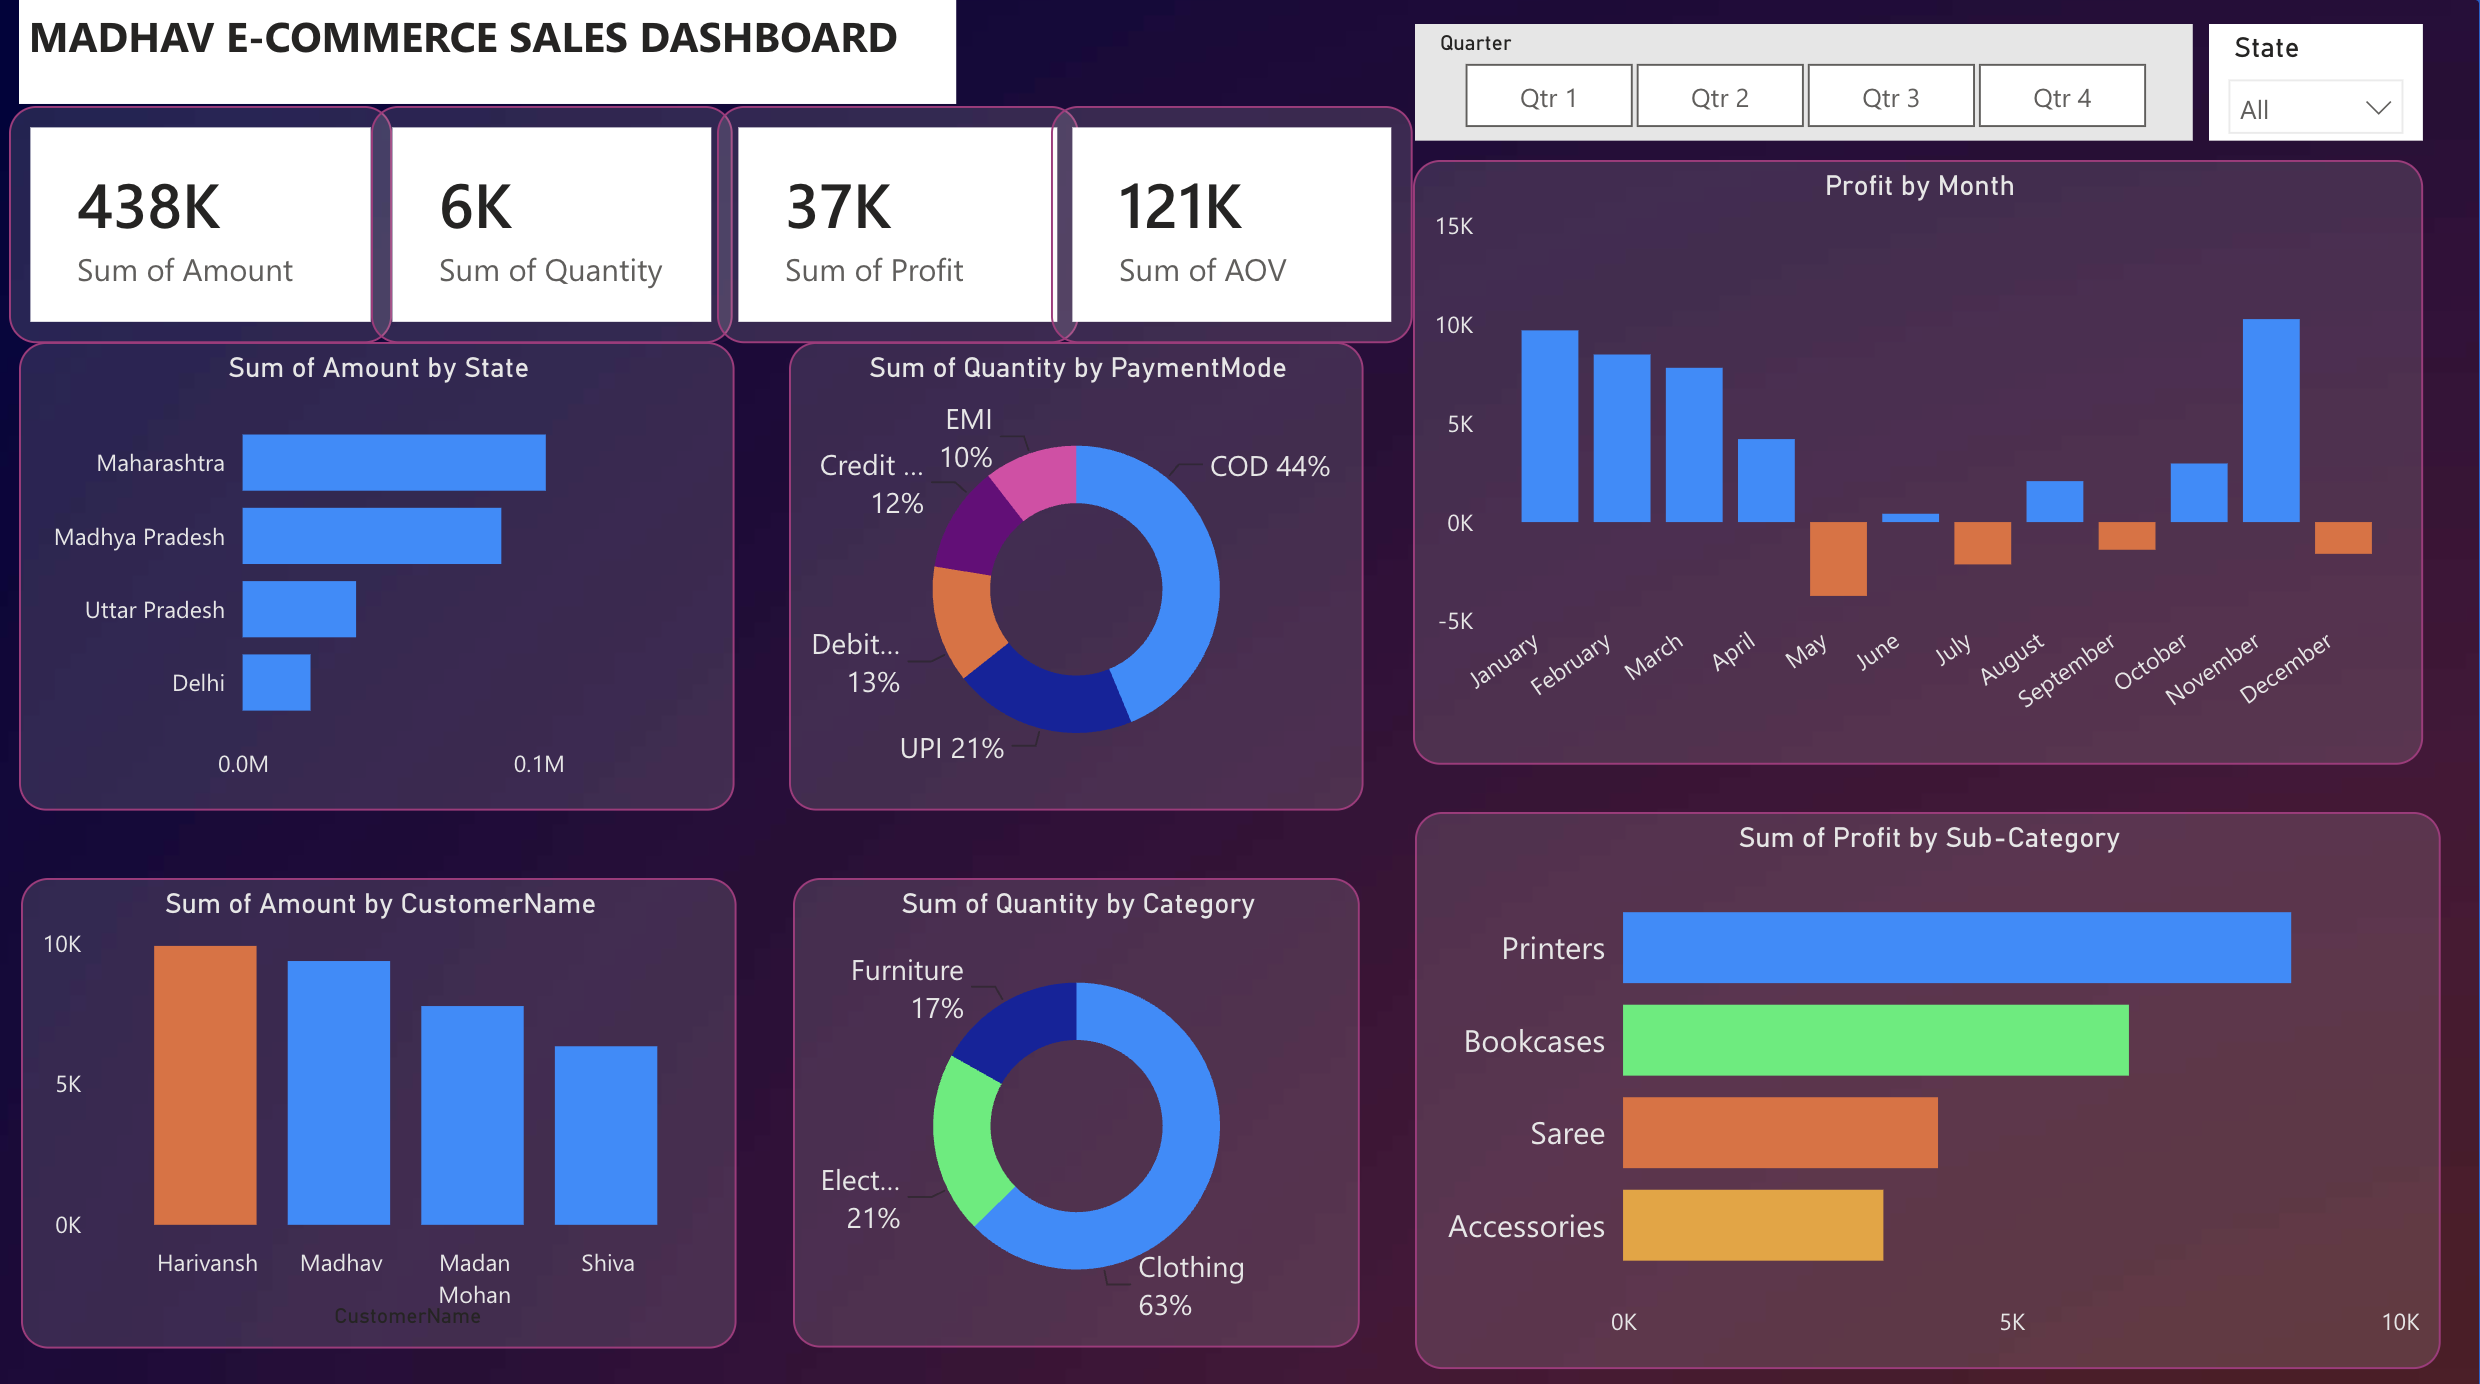

Layout of this report page (visuals, bound fields, positions):
{"tool":"powerbi","page":{"name":"Page 1","canvas":[1280,720],"ordinal":0},"visuals":[{"type":"columnChart","title":"Profit by Month","fields":{"Y":["Sum(Details.Profit)"],"Category":["Orders.Order Date.Variation.Date Hierarchy.Month"]},"box":[730.6,83.3,519.4,311.1],"z":0},{"type":"barChart","fields":{"Category":["Orders.State"],"Y":["Sum(Details.Amount)"]},"box":[13.6,177.3,368.2,240.9],"z":1000},{"type":"donutChart","fields":{"Category":["Details.Category"],"Y":["Sum(Details.Quantity)"]},"box":[411.1,452.8,291.7,241.7],"z":2000},{"type":"donutChart","fields":{"Category":["Details.PaymentMode"],"Y":["Sum(Details.Quantity)"]},"box":[409.1,177.3,295.5,240.9],"z":3000},{"type":"cardVisual","fields":{"Data":["Sum(Details.Amount)"]},"box":[8.3,55.6,197.2,122.2],"z":4000},{"type":"cardVisual","fields":{"Data":["Sum(Details.Quantity)"]},"box":[194.4,55.6,186.1,122.2],"z":5000},{"type":"cardVisual","fields":{"Data":["Sum(Details.Profit)"]},"box":[372.2,55.6,186.1,122.2],"z":6000},{"type":"cardVisual","fields":{"Data":["Sum(Details.AOV)"]},"box":[544.4,55.6,186.1,122.2],"z":7000},{"type":"barChart","fields":{"Category":["Details.Sub-Category"],"Y":["Sum(Details.Profit)"]},"box":[731.8,418.2,527.3,286.4],"z":8000},{"type":"textbox","box":[13.6,0,481.8,54.5],"z":9000},{"type":"columnChart","fields":{"Category":["Orders.CustomerName"],"Y":["Sum(Details.Amount)"]},"box":[14,453,368,242],"z":10000},{"type":"slicer","fields":{"Values":["Orders.Order Date.Variation.Date Hierarchy.Quarter"]},"box":[731.4,12.9,400,60],"z":11000},{"type":"slicer","fields":{"Values":["Orders.State"]},"box":[1140,12.9,110,60],"z":12000}]}

Visuals, with their boxes in screenshot pixels (x1, y1, x2, y2), scaled from the page's 1280x720 canvas onto the 2480x1384 screenshot:
"Profit by Month" columnChart: (x1=1416, y1=160, x2=2422, y2=758)
barChart - Orders.State x Sum(Details.Amount): (x1=26, y1=341, x2=740, y2=804)
donutChart - Details.Category x Sum(Details.Quantity): (x1=797, y1=870, x2=1362, y2=1335)
donutChart - Details.PaymentMode x Sum(Details.Quantity): (x1=793, y1=341, x2=1365, y2=804)
cardVisual - Sum(Details.Amount): (x1=16, y1=107, x2=398, y2=342)
cardVisual - Sum(Details.Quantity): (x1=377, y1=107, x2=737, y2=342)
cardVisual - Sum(Details.Profit): (x1=721, y1=107, x2=1082, y2=342)
cardVisual - Sum(Details.AOV): (x1=1055, y1=107, x2=1415, y2=342)
barChart - Details.Sub-Category x Sum(Details.Profit): (x1=1418, y1=804, x2=2440, y2=1354)
textbox: (x1=26, y1=0, x2=960, y2=105)
columnChart - Orders.CustomerName x Sum(Details.Amount): (x1=27, y1=871, x2=740, y2=1336)
slicer - Orders.Order Date.Variation.Date Hierarchy.Quarter: (x1=1417, y1=25, x2=2192, y2=140)
slicer - Orders.State: (x1=2209, y1=25, x2=2422, y2=140)
